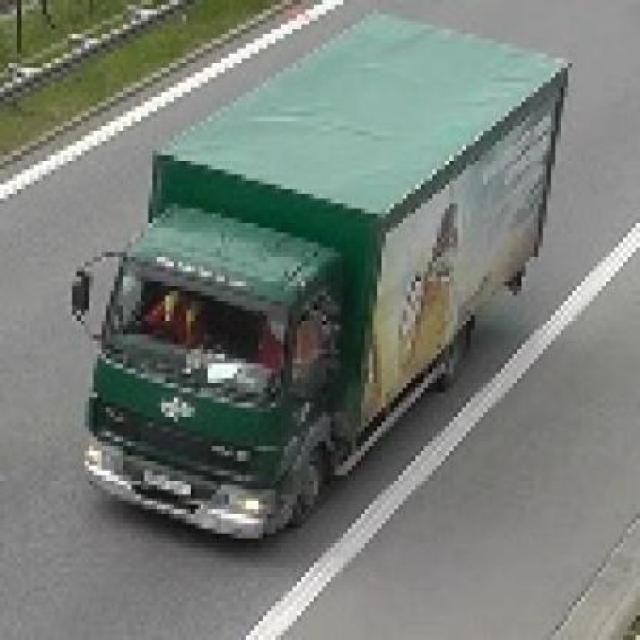truck: (68, 6, 565, 544)
